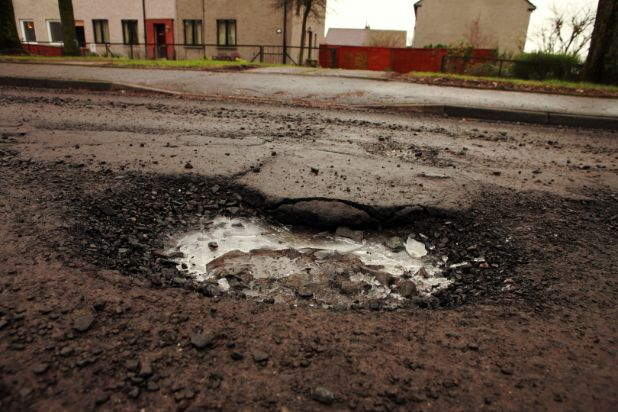pothole: (66, 165, 525, 312)
